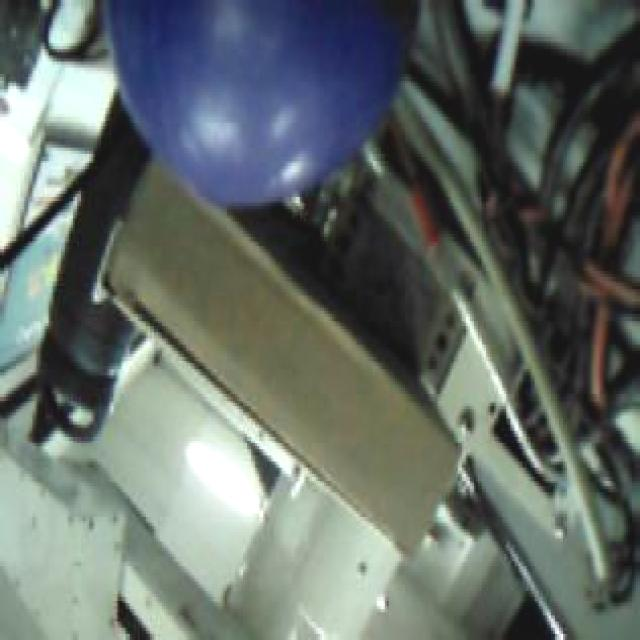BallPurple: (102, 0, 420, 206)
